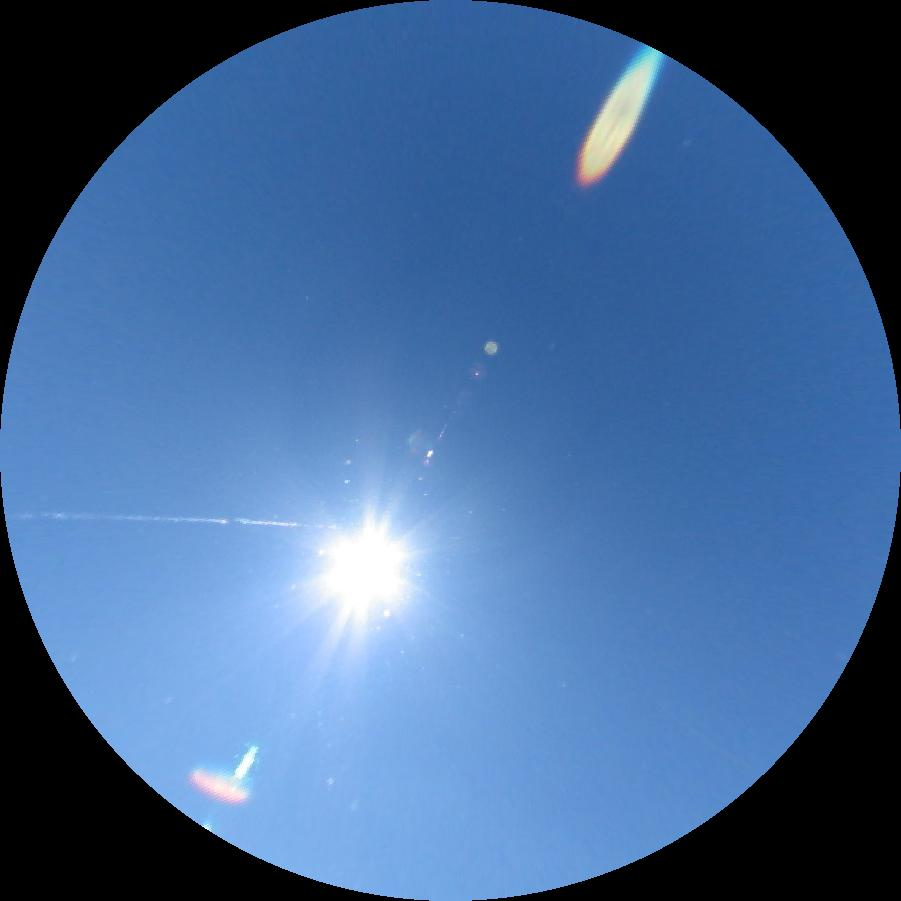parasite: (5, 511, 334, 528)
sun: (317, 518, 407, 620)
